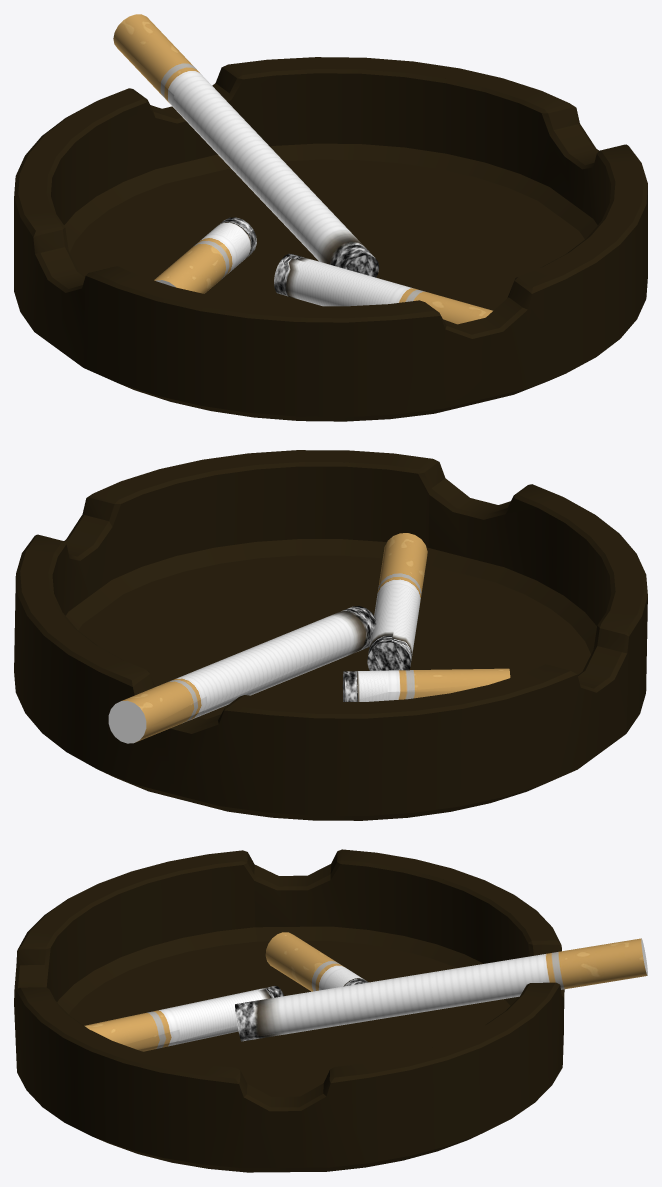
Rendered from Ashtray.FBX.
3 views of the same model, one above another, from view 1: azimuth 30°, elevation 25°; view 2: azimuth 150°, elevation 25°; view 3: azimuth 270°, elevation 25° (orthographic). The views are drawn at different scales.
Visible parts, largest first — view 1: ashtray, cigarette 1, cigarette 3, cigarette 2; view 2: ashtray, cigarette 1, cigarette 3, cigarette 2; view 3: ashtray, cigarette 1, cigarette 3, cigarette 2.
Boxes of the visible parts, x1=… form: ashtray: x1=14, y1=57, x2=647, y2=421; cigarette 1: x1=113, y1=14, x2=379, y2=277; cigarette 3: x1=274, y1=253, x2=492, y2=324; cigarette 2: x1=154, y1=217, x2=256, y2=293; ashtray: x1=14, y1=450, x2=647, y2=820; cigarette 1: x1=108, y1=606, x2=376, y2=743; cigarette 3: x1=367, y1=533, x2=427, y2=670; cigarette 2: x1=342, y1=668, x2=510, y2=701; ashtray: x1=14, y1=849, x2=564, y2=1172; cigarette 1: x1=235, y1=938, x2=647, y2=1041; cigarette 3: x1=84, y1=986, x2=283, y2=1051; cigarette 2: x1=265, y1=932, x2=368, y2=991.
Bounding box in the file's own units: 25.06 × 6.26 × 28.41.
